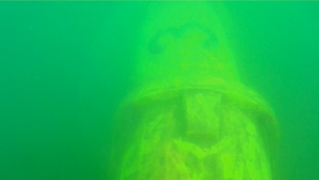3: (148, 22, 217, 55)
pipe: (110, 1, 280, 179)
